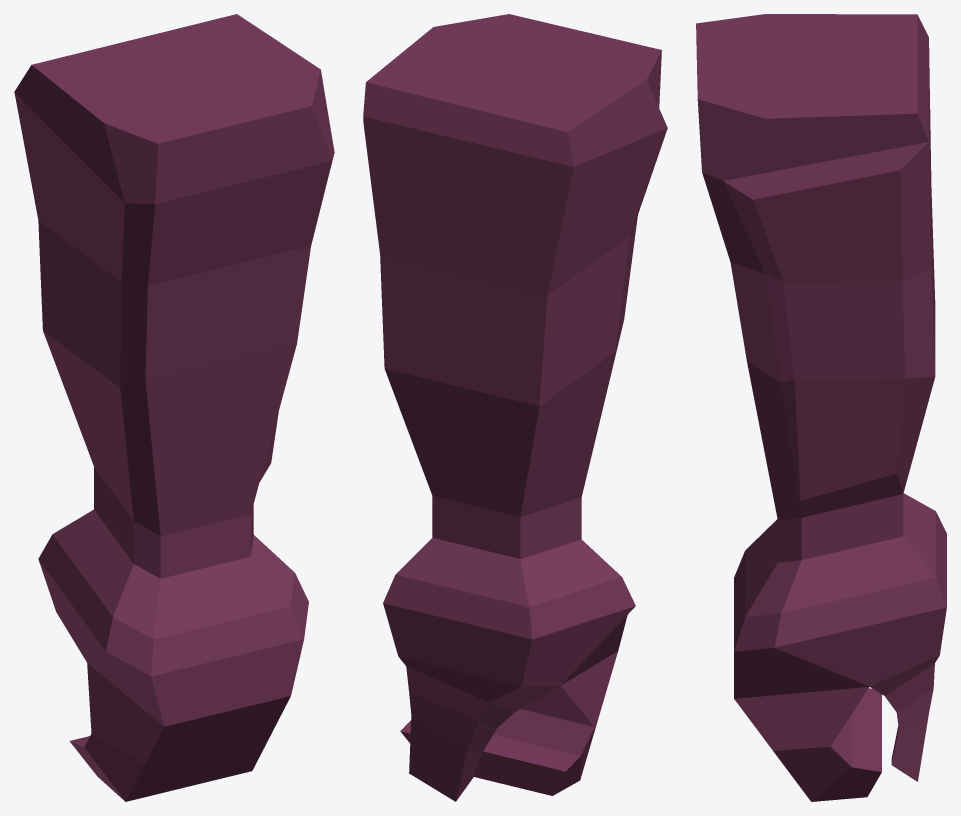
File: migiude.obj
The picture shows the model from 3 angles, left to right: view 1: azimuth 30°, elevation 25°; view 2: azimuth 150°, elevation 25°; view 3: azimuth 270°, elevation 25°; orthographic projection.
Visible parts, largest first — view 1: pCube4 pCube5; view 2: pCube4 pCube5; view 3: pCube4 pCube5.
Boxes of the visible parts, bbox=[...] form: pCube4 pCube5: bbox=[14, 14, 334, 801]; pCube4 pCube5: bbox=[363, 14, 667, 801]; pCube4 pCube5: bbox=[696, 14, 946, 801].
Bounding box in the file's own units: 0.3885 × 1.16 × 0.3718.
Materials: 1 (1 with a texture image).
